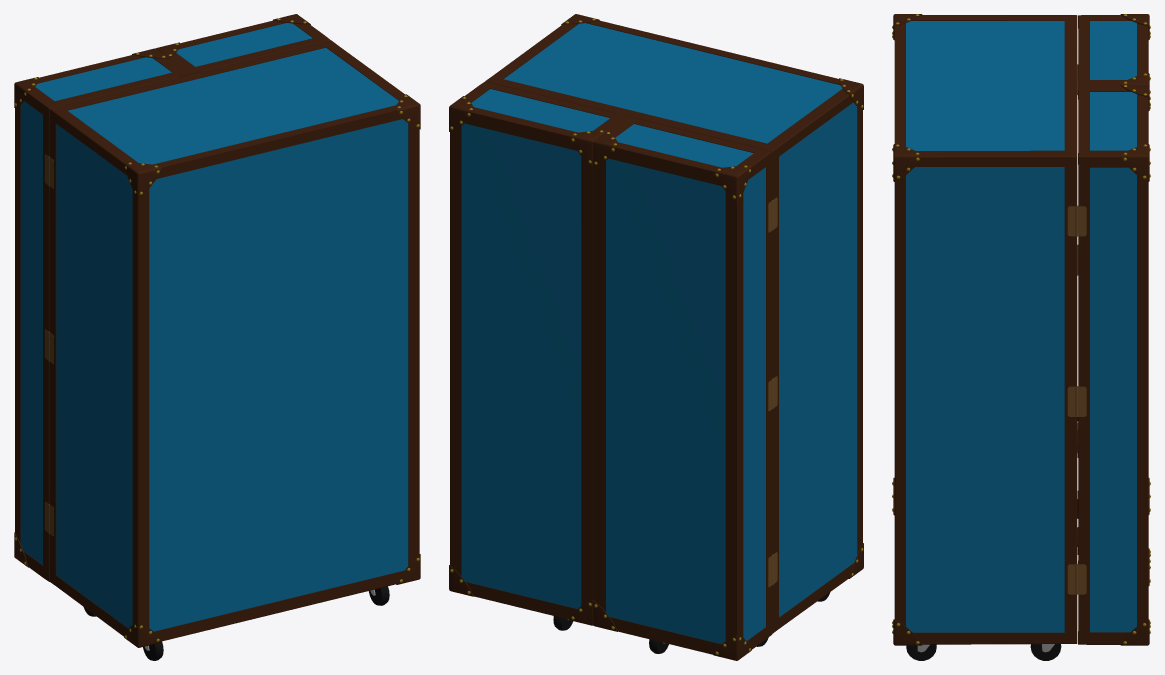
The model's file is bar_cabinet.dae.
The picture shows the model from 3 angles, left to right: view 1: azimuth 30°, elevation 25°; view 2: azimuth 150°, elevation 25°; view 3: azimuth 270°, elevation 25°; orthographic projection. The views are drawn at different scales.
Parts seen in each view (by area): view 1: bar_cabinet, body_trim, L_door, L_door_trim, R_door, body_corners, R_door_trim, L_door_corners; view 2: L_door, R_door, bar_cabinet, L_door_trim, R_door_trim, body_trim, L_door_corners, R_door_corners, body_corners; view 3: bar_cabinet, R_door, body_trim, R_door_trim, L_door, L_door_trim, body_corners, R_door_corners, R_hinge_plate_door, hinge_plate_fixed, L_door_corners.
Boxes of the visible parts, x1=… form: bar_cabinet: x1=56, y1=48, x2=408, y2=631; body_trim: x1=49, y1=40, x2=419, y2=641; L_door: x1=20, y1=57, x2=171, y2=564; L_door_trim: x1=15, y1=55, x2=189, y2=581; R_door: x1=176, y1=23, x2=312, y2=66; body_corners: x1=124, y1=94, x2=420, y2=647; R_door_trim: x1=170, y1=20, x2=330, y2=74; L_door_corners: x1=14, y1=48, x2=169, y2=567; L_door: x1=606, y1=124, x2=765, y2=644; R_door: x1=461, y1=89, x2=609, y2=608; bar_cabinet: x1=504, y1=23, x2=857, y2=617; L_door_trim: x1=593, y1=116, x2=772, y2=654; R_door_trim: x1=450, y1=81, x2=627, y2=619; body_trim: x1=485, y1=20, x2=862, y2=633; L_door_corners: x1=593, y1=131, x2=751, y2=660; R_door_corners: x1=449, y1=96, x2=606, y2=625; body_corners: x1=561, y1=14, x2=863, y2=578; bar_cabinet: x1=906, y1=21, x2=1064, y2=632; R_door: x1=1090, y1=92, x2=1136, y2=632; body_trim: x1=894, y1=15, x2=1077, y2=644; R_door_trim: x1=1078, y1=85, x2=1148, y2=644; L_door: x1=1090, y1=21, x2=1136, y2=79; L_door_trim: x1=1078, y1=15, x2=1148, y2=563; body_corners: x1=892, y1=14, x2=922, y2=645; R_door_corners: x1=1120, y1=85, x2=1150, y2=645; R_hinge_plate_door: x1=1077, y1=205, x2=1086, y2=594; hinge_plate_fixed: x1=1067, y1=206, x2=1075, y2=594; L_door_corners: x1=1120, y1=14, x2=1150, y2=562.
Bounding box in the file's own units: 0.3655 × 0.6171 × 0.2784.
